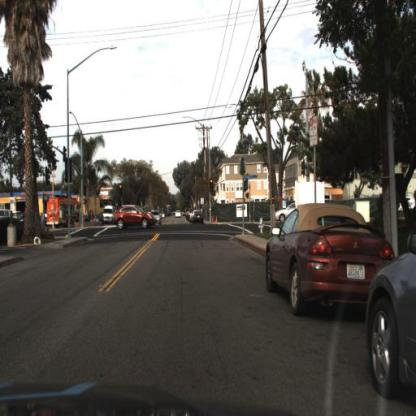car: (265, 201, 398, 326), (364, 233, 416, 401), (113, 202, 157, 232), (274, 199, 302, 220), (103, 204, 117, 226)
trafficLight-Green: (209, 177, 217, 195)
trafficLight-Red: (118, 182, 124, 200)
truck: (47, 198, 85, 228)
